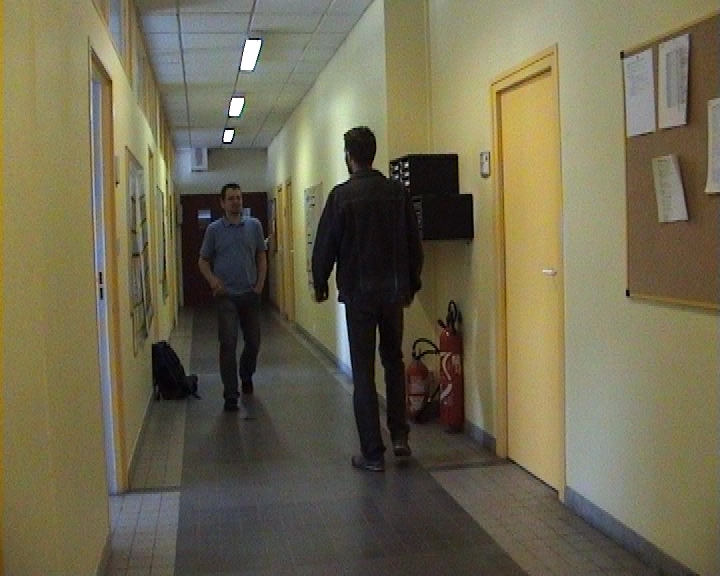leave bag unattended: (133, 323, 284, 415)
